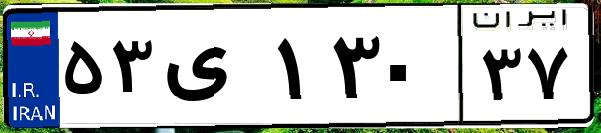0: (385, 28, 445, 110)
1: (270, 28, 330, 110)
3: (330, 28, 385, 110), (475, 38, 525, 113), (110, 28, 158, 98)
5: (57, 26, 110, 100)
7: (525, 38, 570, 115)
ی: (158, 20, 270, 120)
